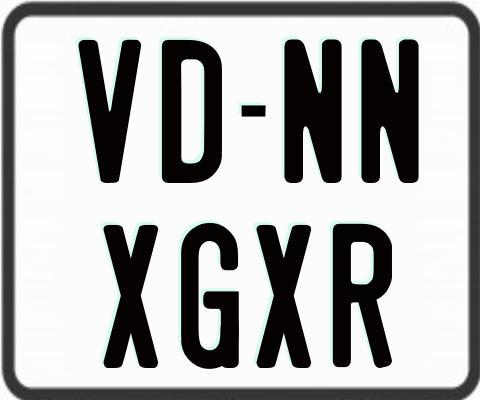D: (159, 38, 223, 185)
G: (178, 222, 236, 372)
N: (281, 39, 345, 186), (361, 36, 420, 182)
R: (331, 221, 396, 367)
V: (78, 40, 145, 189)
X: (102, 223, 163, 370), (256, 223, 311, 368)
